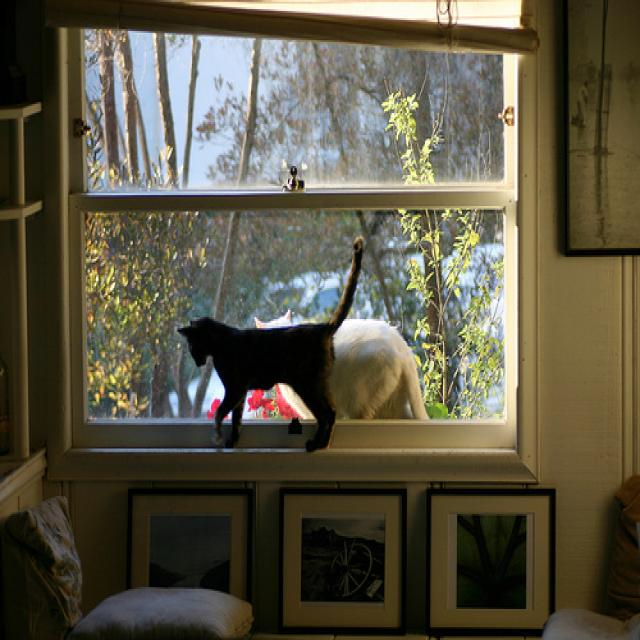cat: (176, 235, 366, 454), (252, 310, 432, 421)
